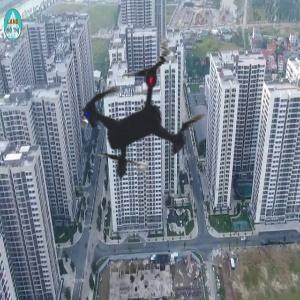drone: (15, 1, 269, 255)
